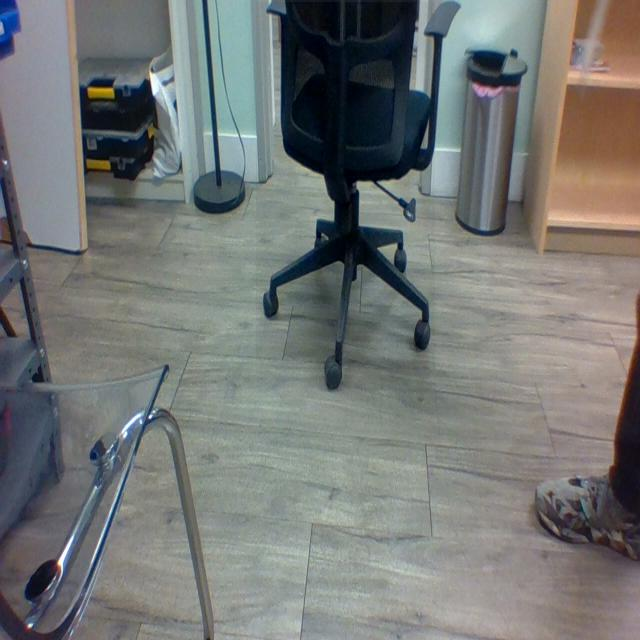black-chair: (256, 2, 436, 370)
